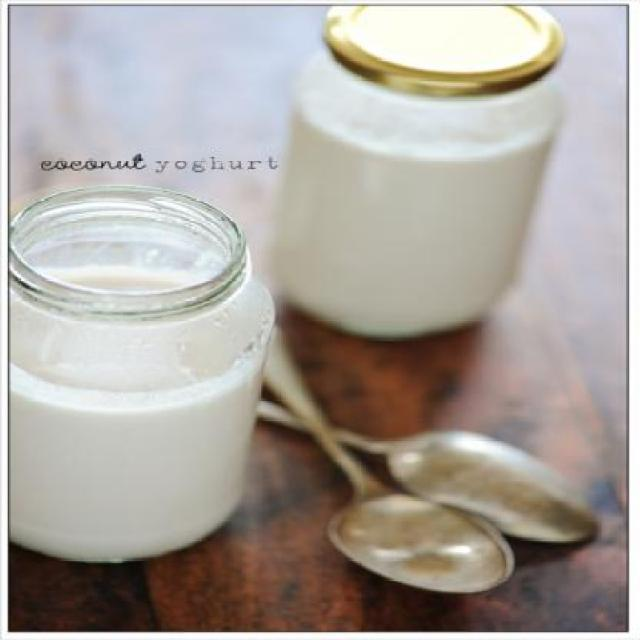Milk: (0, 266, 268, 566), (270, 100, 558, 342)
